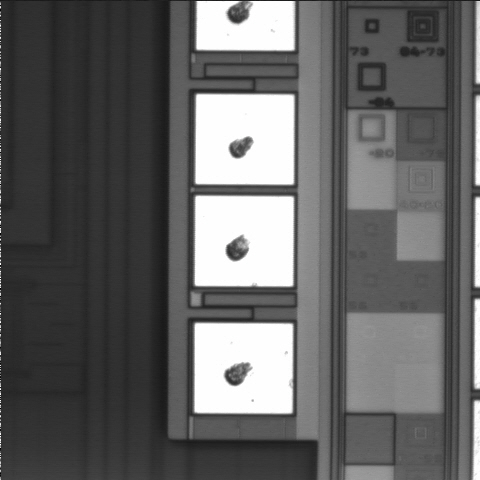pad: (195, 94, 294, 185), (195, 196, 294, 286), (194, 323, 293, 413)
